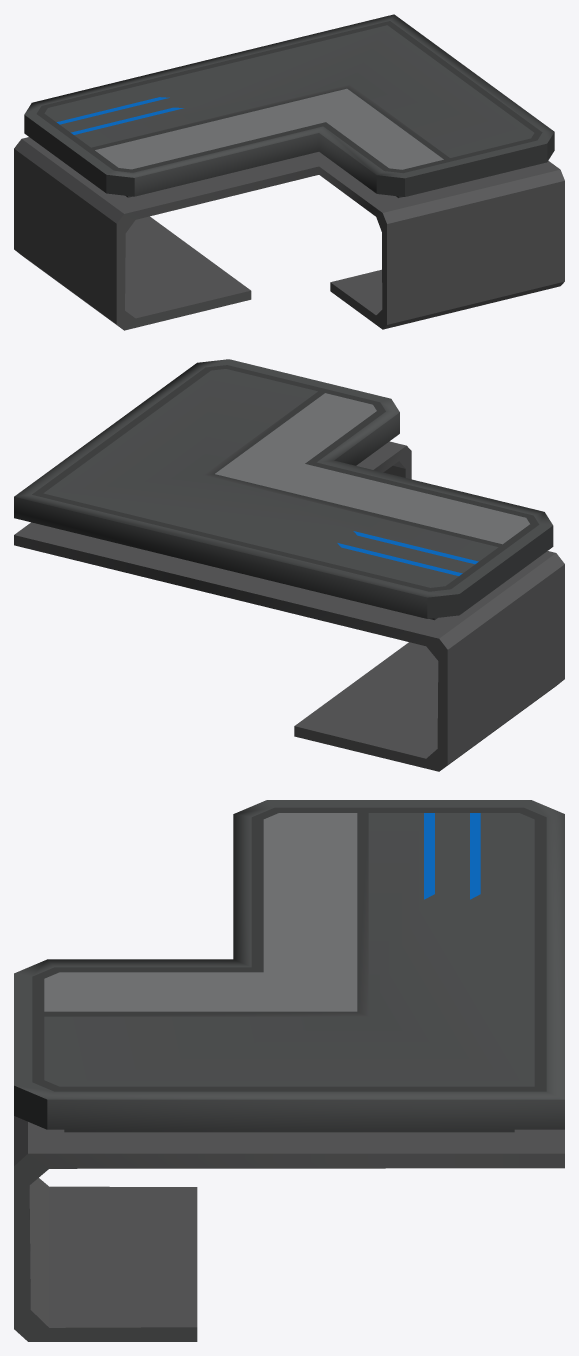
Rendered from Desk_017.fbx.
3 renders of one model, top to bottom at view 1: azimuth 30°, elevation 25°; view 2: azimuth 150°, elevation 25°; view 3: azimuth 270°, elevation 25°, orthographic. The views are drawn at different scales.
Visible parts, largest first — view 1: Desk_017; view 2: Desk_017; view 3: Desk_017.
Boxes of the visible parts, bbox=[...] form: Desk_017: bbox=[14, 14, 564, 330]; Desk_017: bbox=[14, 359, 564, 771]; Desk_017: bbox=[14, 800, 564, 1341].
Bounding box in the file's own units: 225 × 175 × 84.84.
